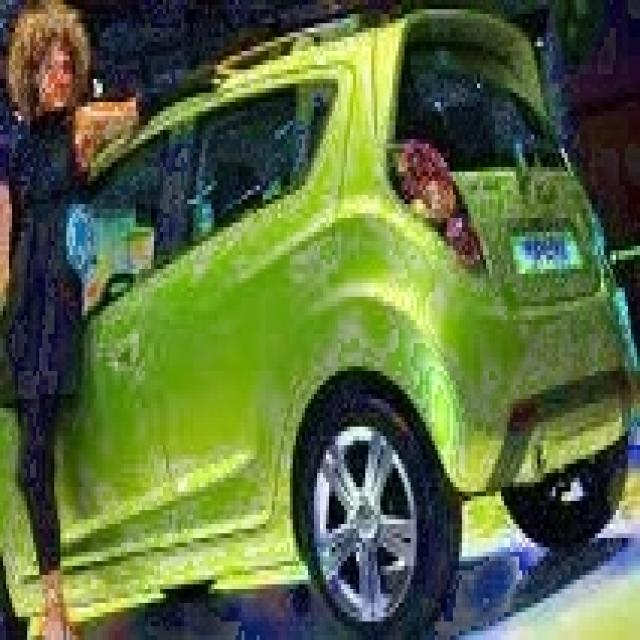green: (124, 56, 640, 594)
